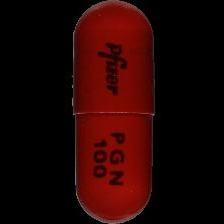50436-6526: (0, 0, 224, 224)
